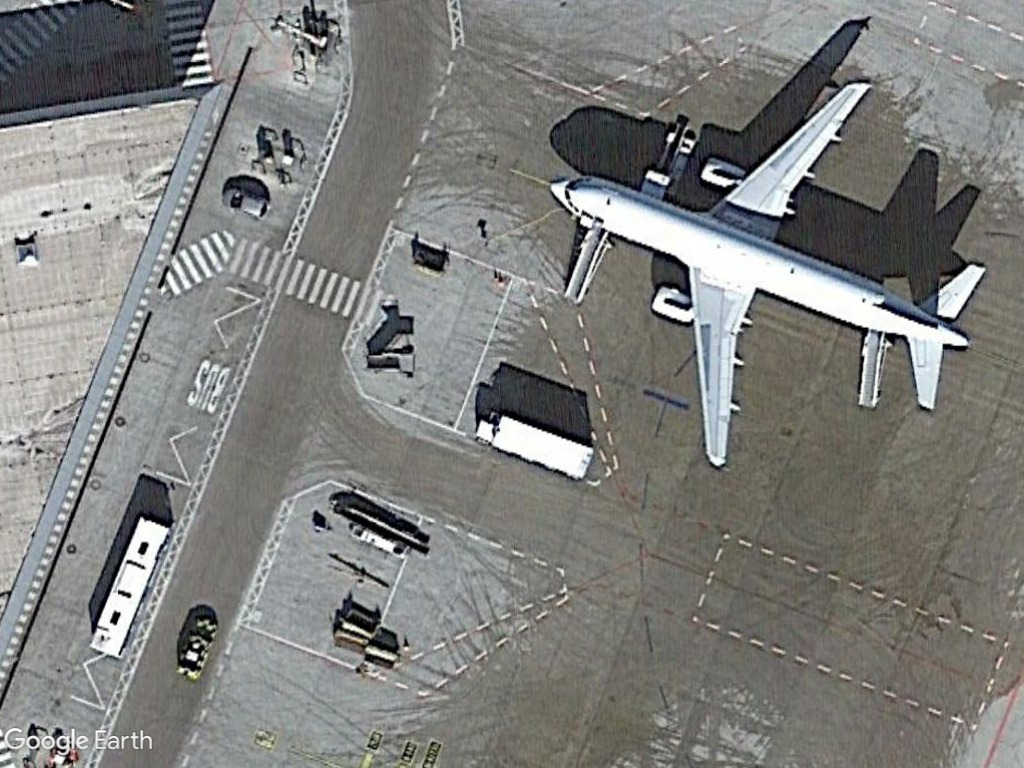airliner: (540, 48, 992, 474)
bus: (79, 511, 178, 665)
car: (216, 184, 277, 222)
stairtruck: (560, 224, 617, 312)
truck: (471, 403, 608, 484)
